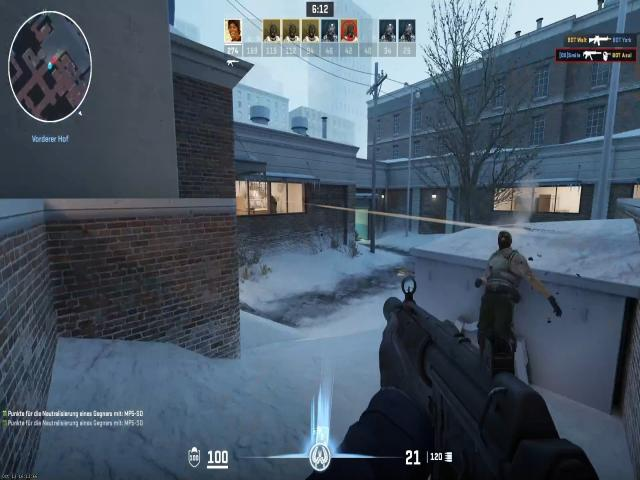CT: (270, 194, 279, 213)
T: (470, 218, 540, 352)
